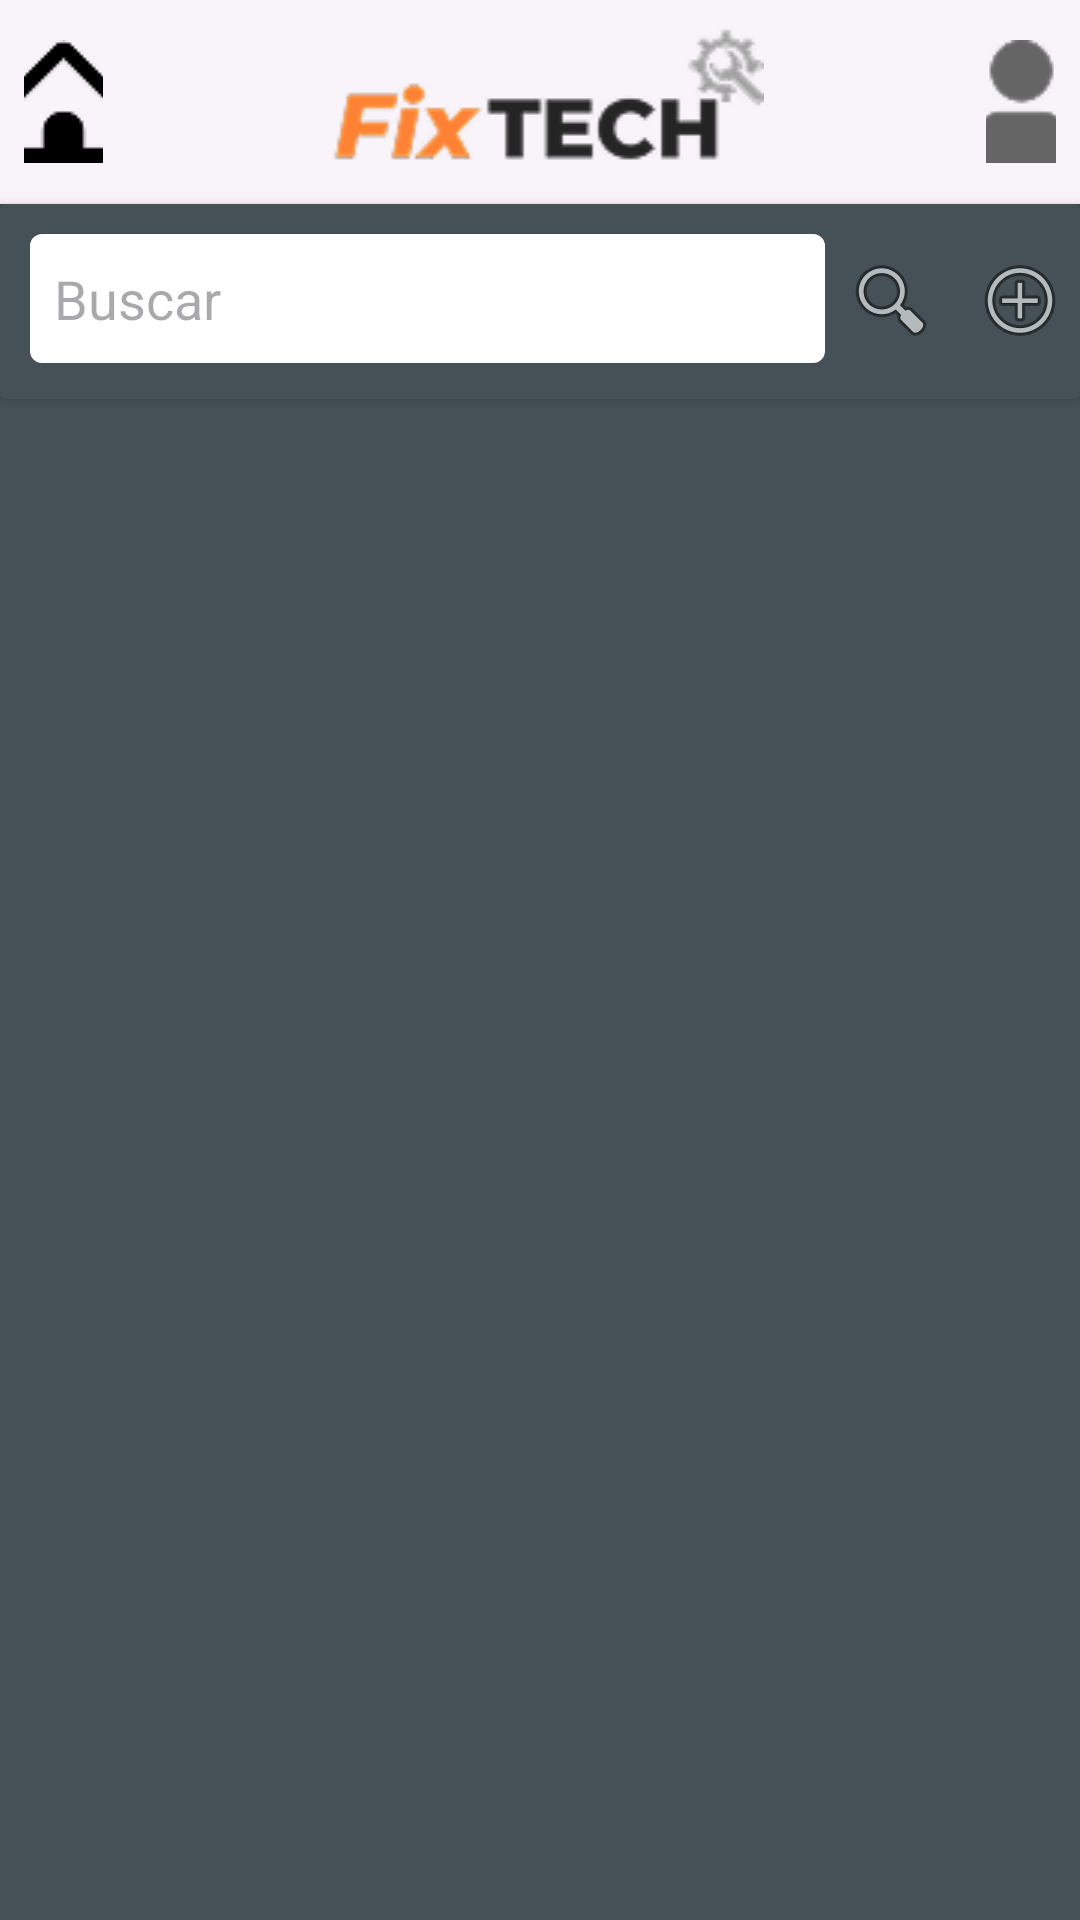

Named icons in this screenshot (1080w x 1920h) and their bounding boxes, (x1,y1,x2,y2):
add: (985,265,1055,336)
home: (24,40,103,163)
search: (856,265,926,336)
user: (986,40,1056,163)
